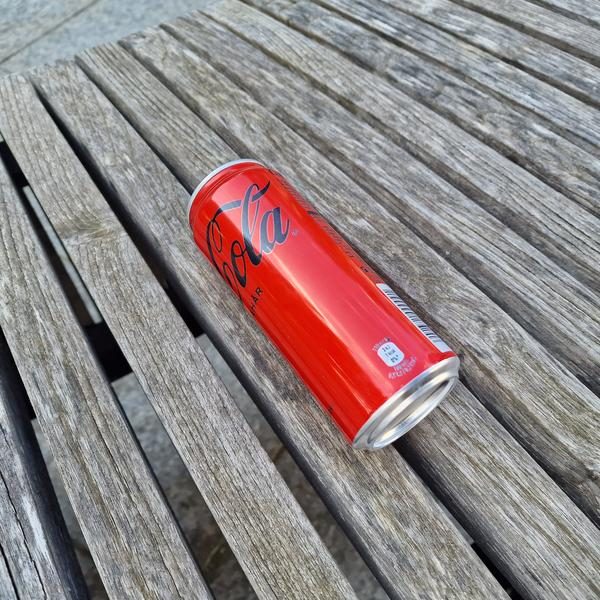can: (158, 126, 475, 467)
